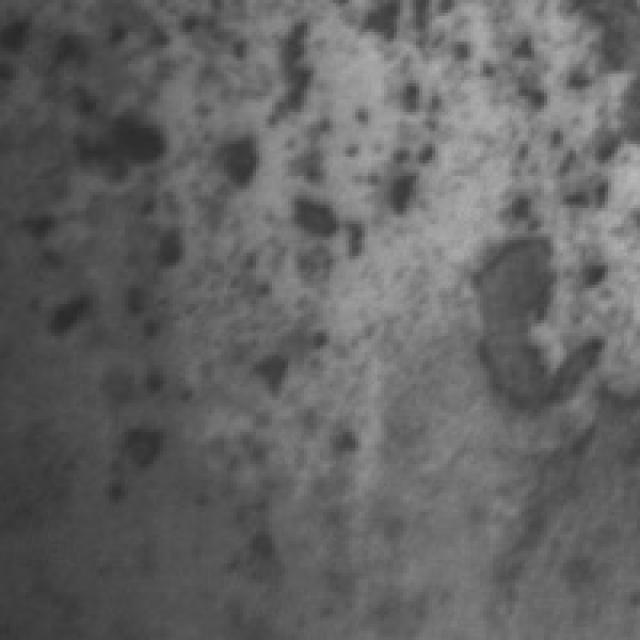patches: (468, 211, 614, 416)
pitted_surface: (3, 16, 477, 496)
